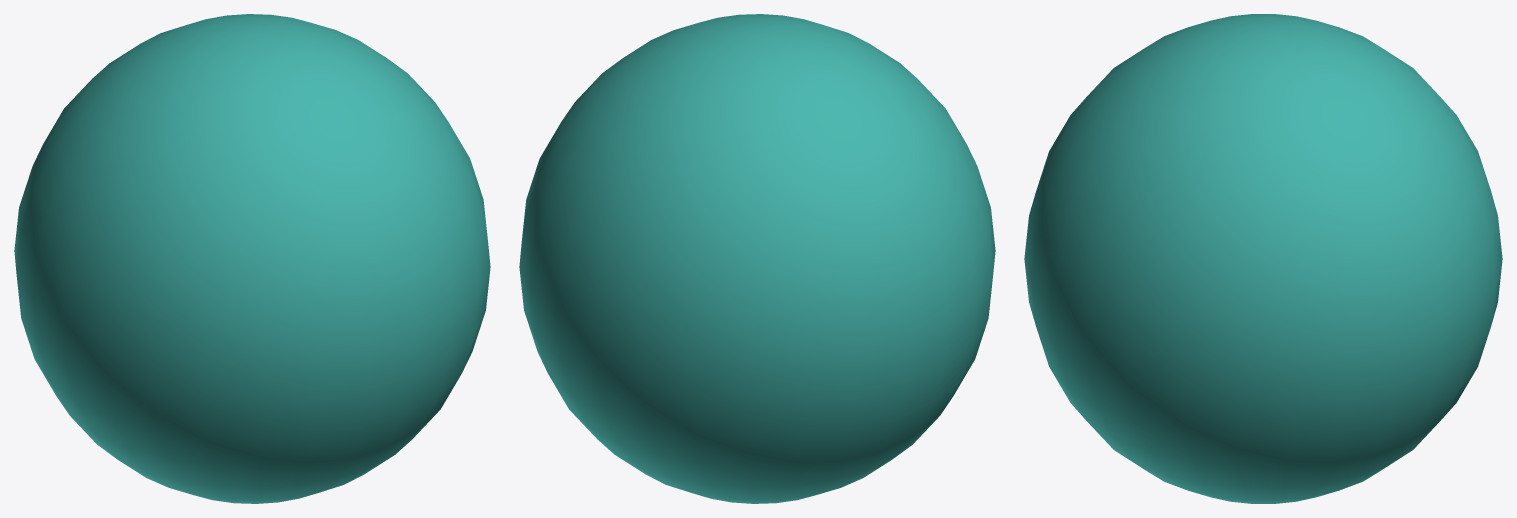
The model's file is spherecreep.dae.
The picture shows the model from 3 angles, left to right: view 1: azimuth 30°, elevation 25°; view 2: azimuth 150°, elevation 25°; view 3: azimuth 270°, elevation 25°; orthographic projection.
Parts seen in each view (by area): view 1: Ball; view 2: Ball; view 3: Ball.
Boxes of the visible parts, bbox=[...] form: Ball: bbox=[14, 14, 490, 503]; Ball: bbox=[519, 14, 995, 503]; Ball: bbox=[1024, 14, 1502, 503].
Bounding box in the file's own units: 0.2365 × 0.2476 × 0.2382.
